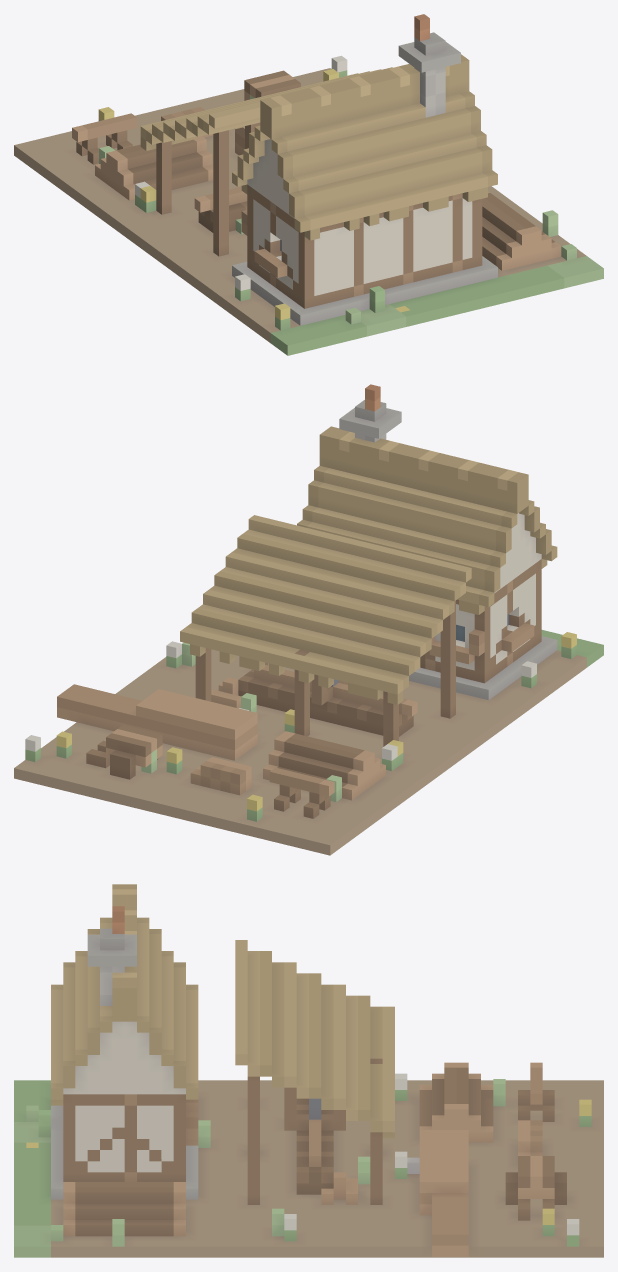
The model's file is sawmill.glb.
3 views of the same model, one above another, from view 1: azimuth 30°, elevation 25°; view 2: azimuth 150°, elevation 25°; view 3: azimuth 270°, elevation 25° (orthographic). The views are drawn at different scales.
Parts seen in each view (by area): view 1: sawmill; view 2: sawmill; view 3: sawmill.
Boxes of the visible parts, x1=… form: sawmill: x1=14, y1=14, x2=603, y2=355; sawmill: x1=14, y1=384, x2=603, y2=855; sawmill: x1=14, y1=884, x2=603, y2=1257.
Size of the model in its own units: 4.25 by 3.12 by 6.
